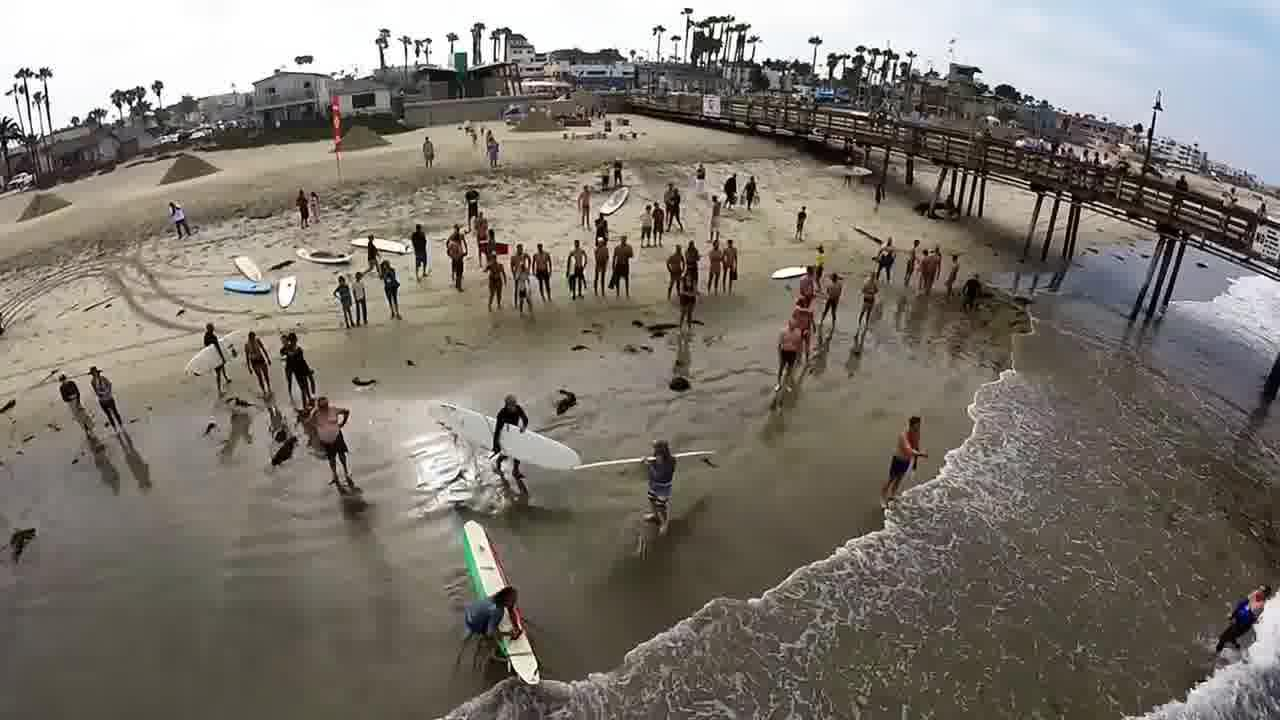swimmer: (1230, 571, 1272, 679)
